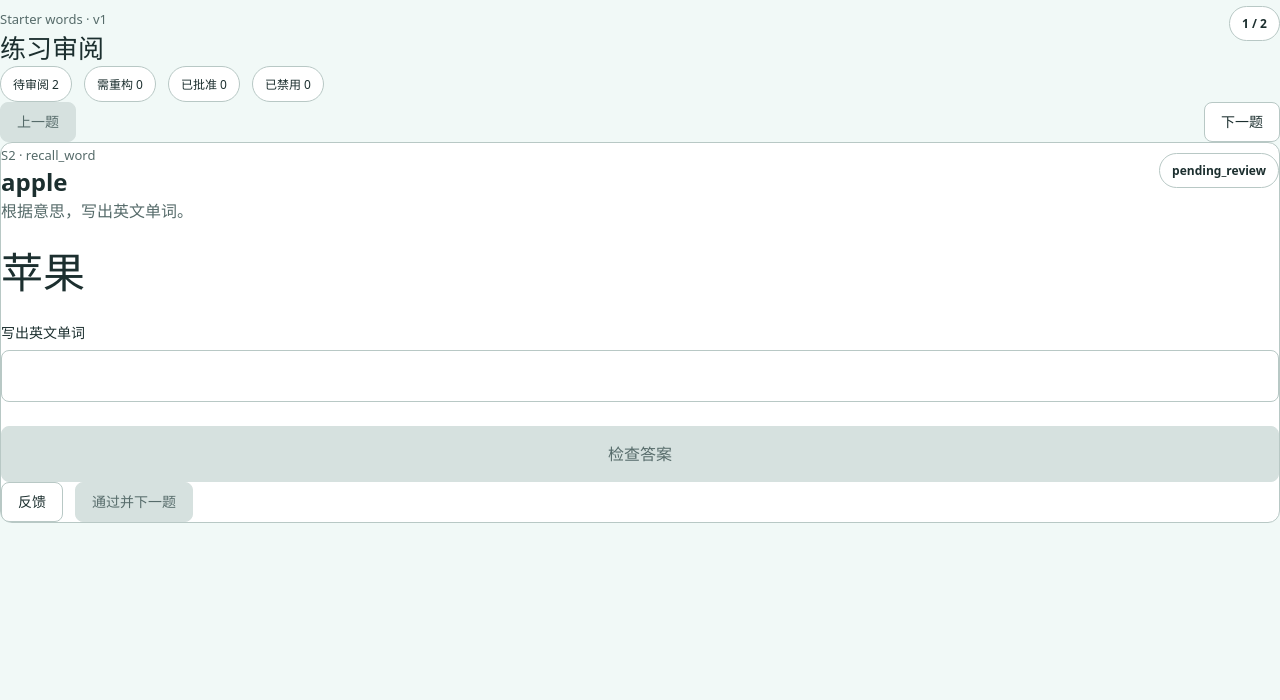
Test: ExerciseReviewPage › persists a rework request, confirms it authoritatively, and continues with the next pending item
The width and height of the screenshot is (1280, 700).
Click the button "反馈".
click(32, 502)  # box [1,482,63,522]
(page scrolled)
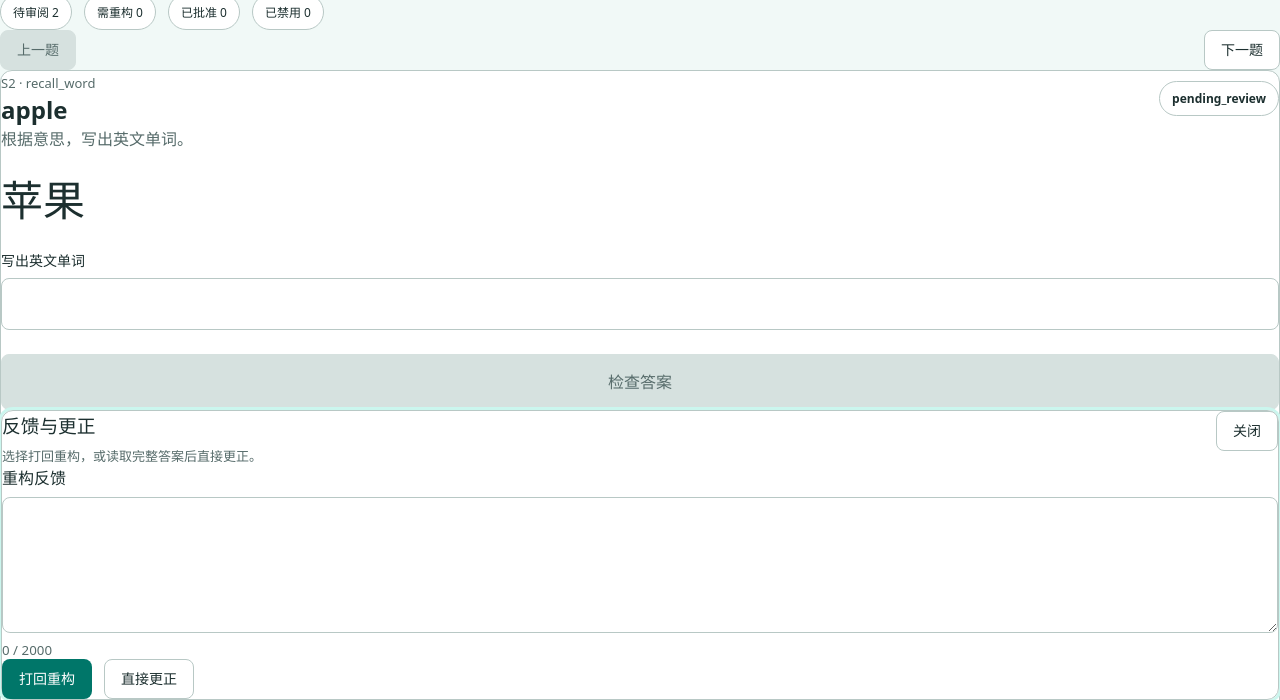
Type "  提示词不够准确  " into the text box labelled "重构反馈 0 / 2000".
click(640, 565); type("  提示词不够准确  ")  # box [2,497,1278,633]
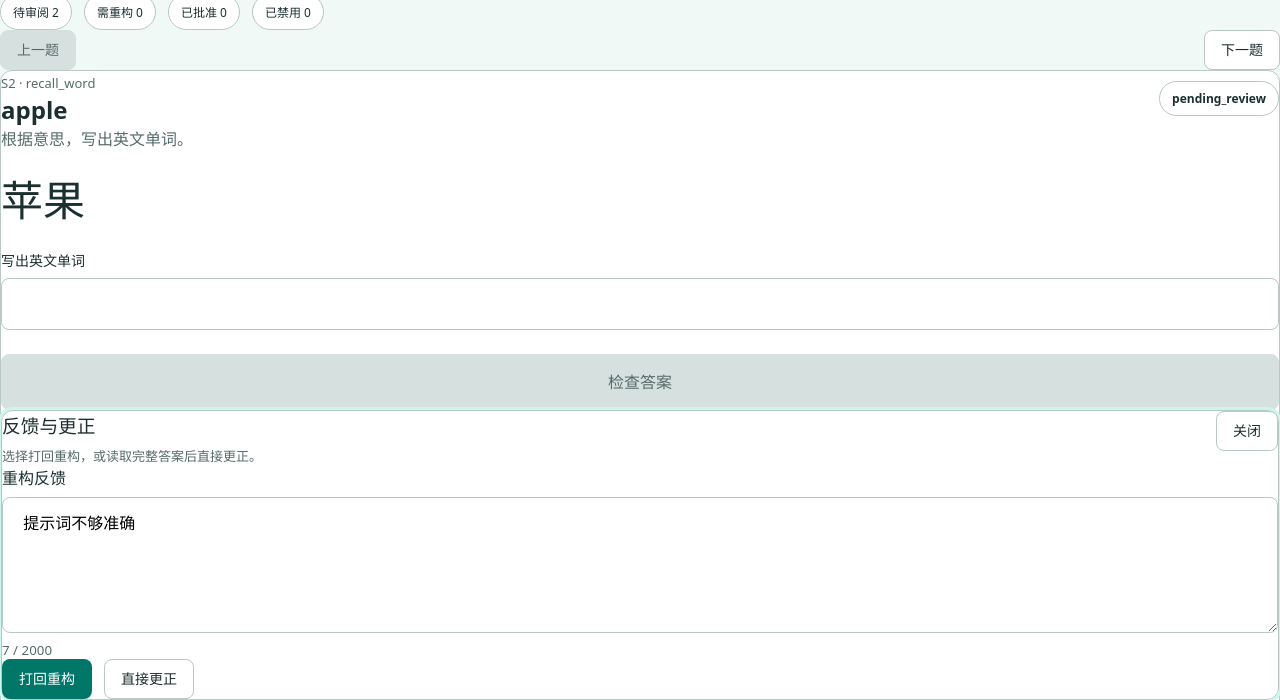
Result: the text "7 / 2000" is shown at [2,641,52,659]
Click the button "打回重构".
click(47, 679)  # box [2,659,92,699]
(page scrolled)
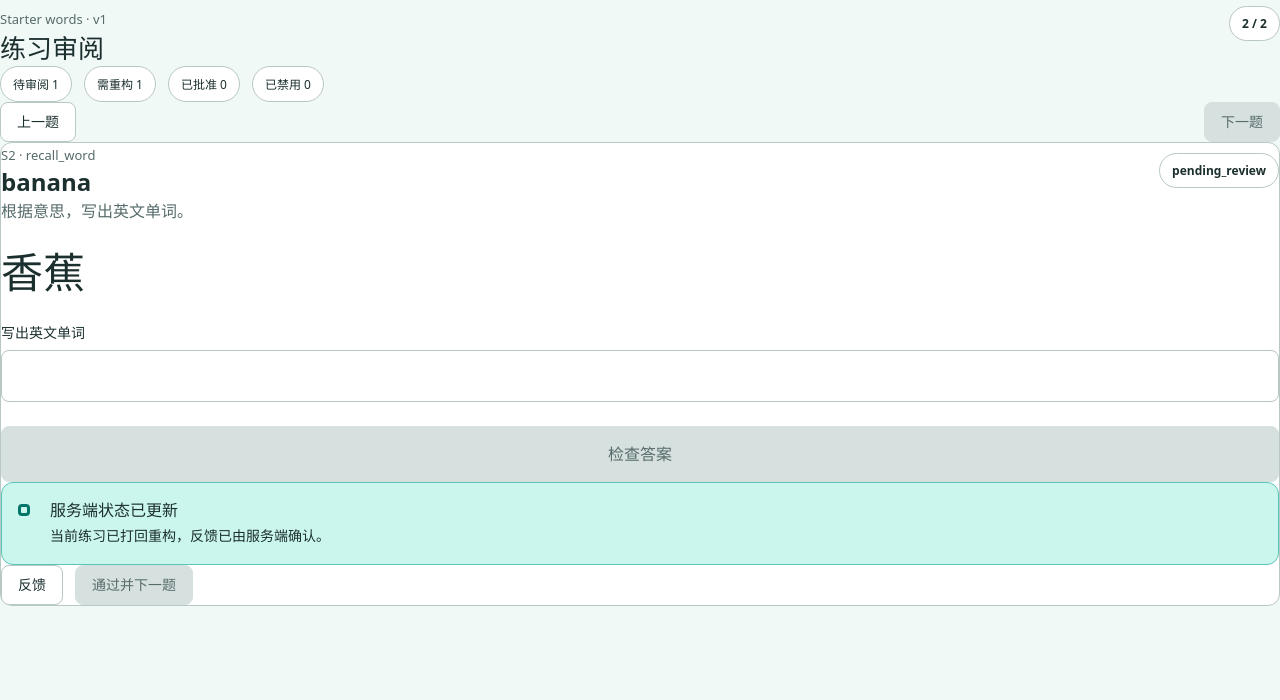
Result: the element that starts with "返回版本详情" shows "banana" at [1,165,91,198]
